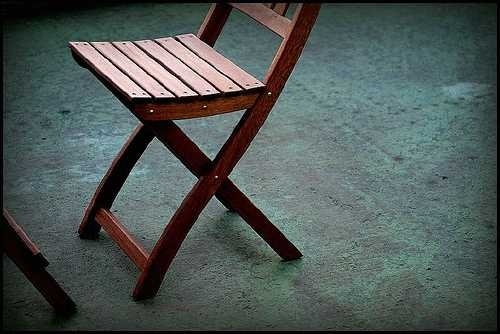obstacle: (69, 2, 319, 299)
